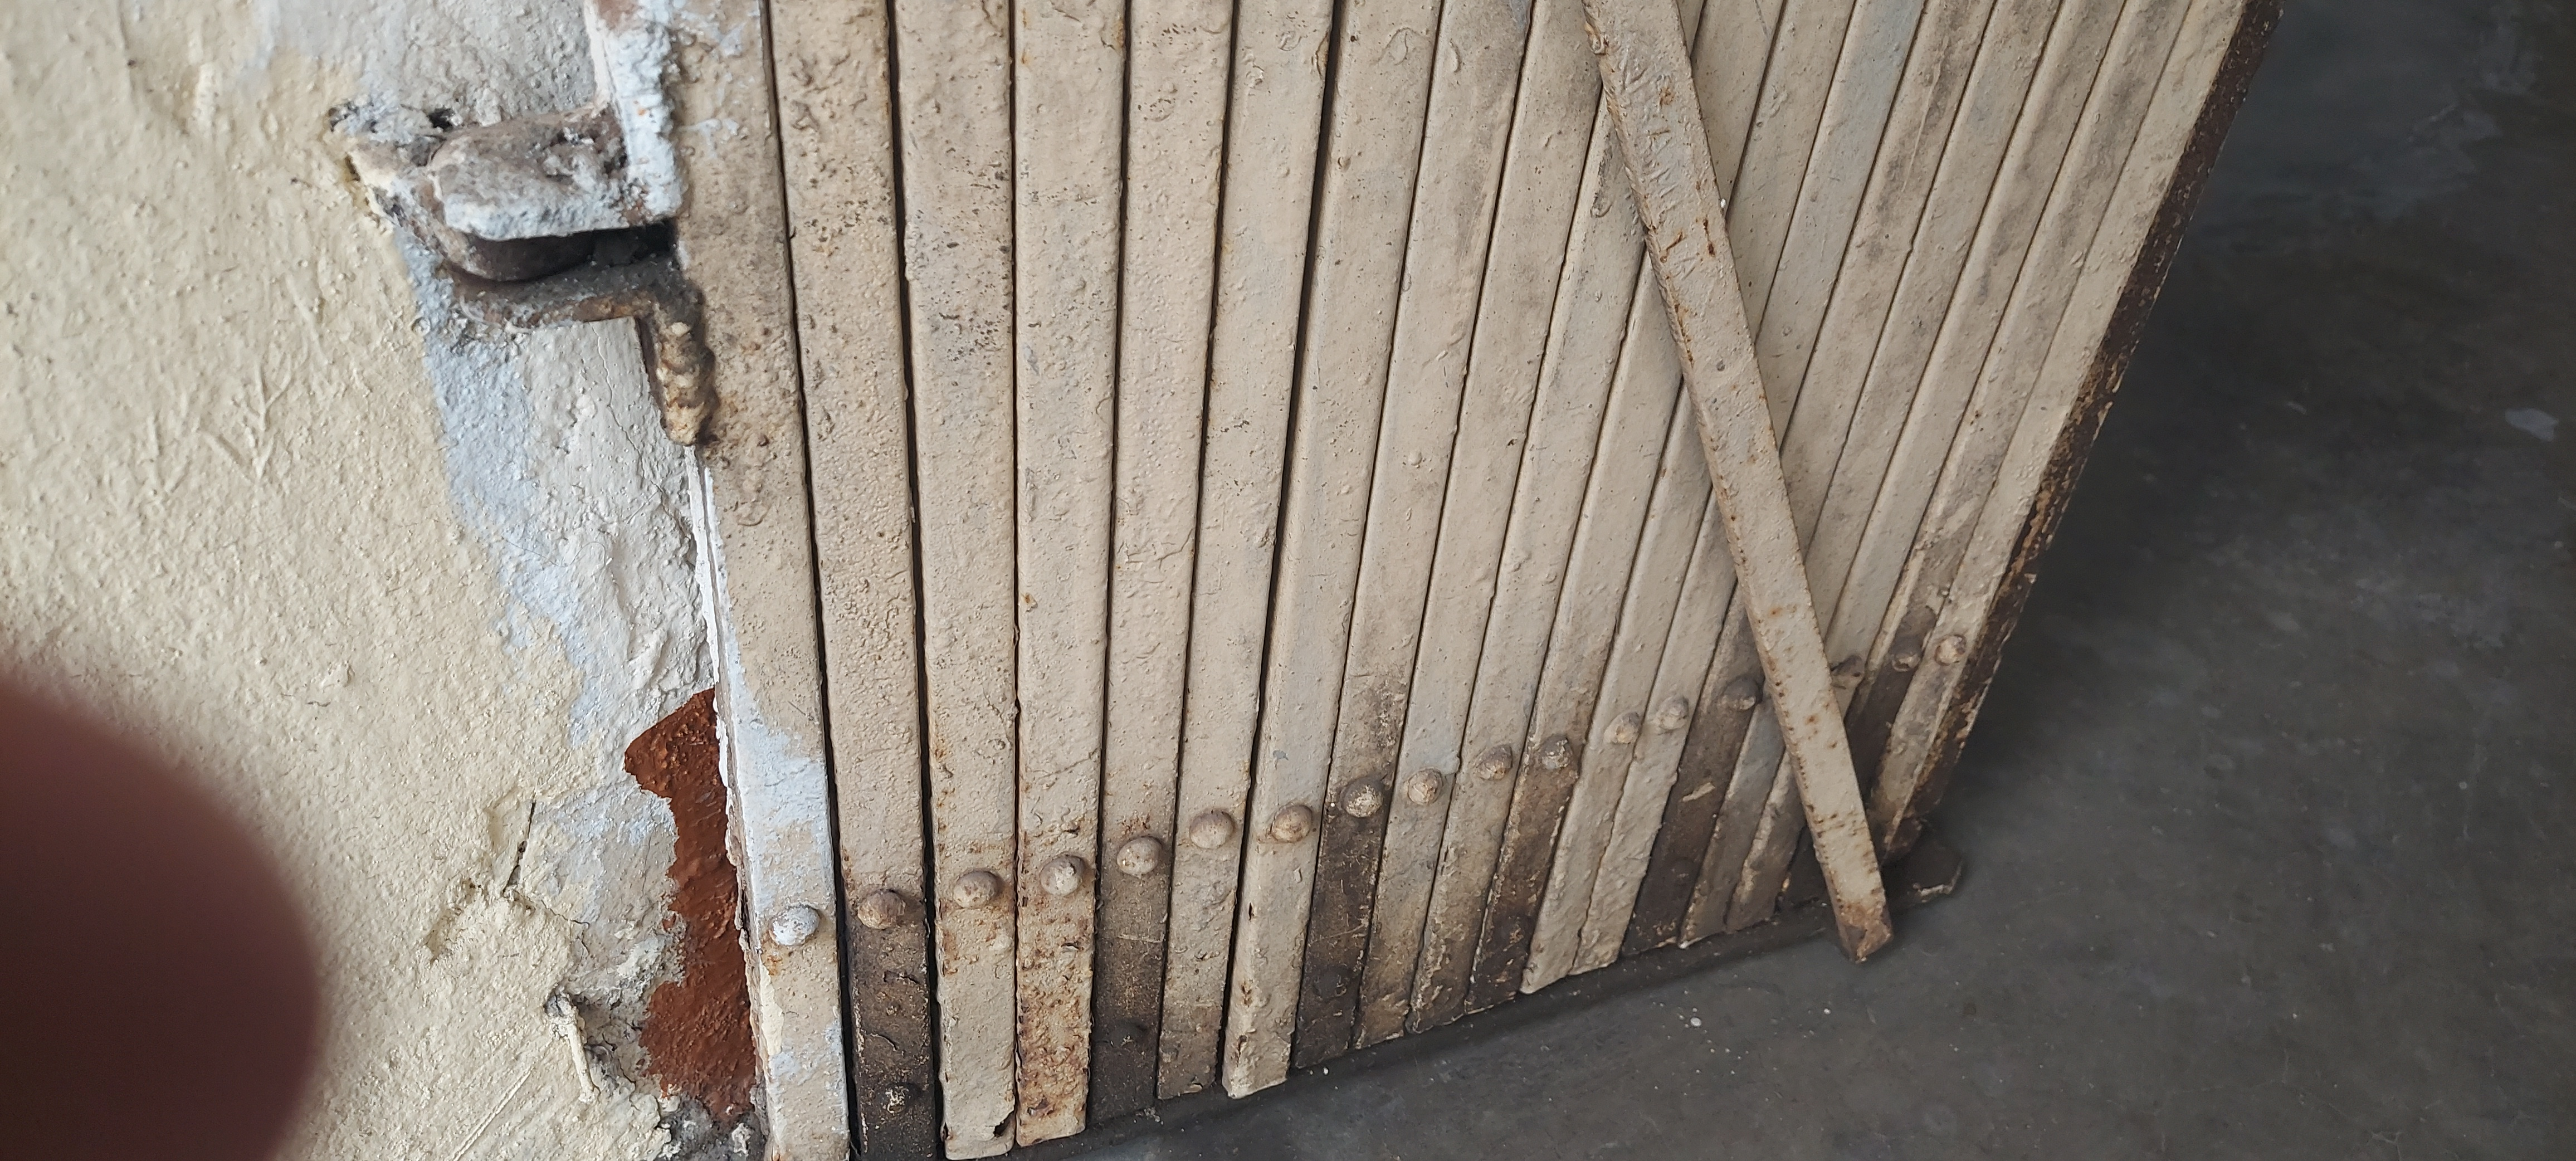Wall: (31, 110, 2080, 1085)
